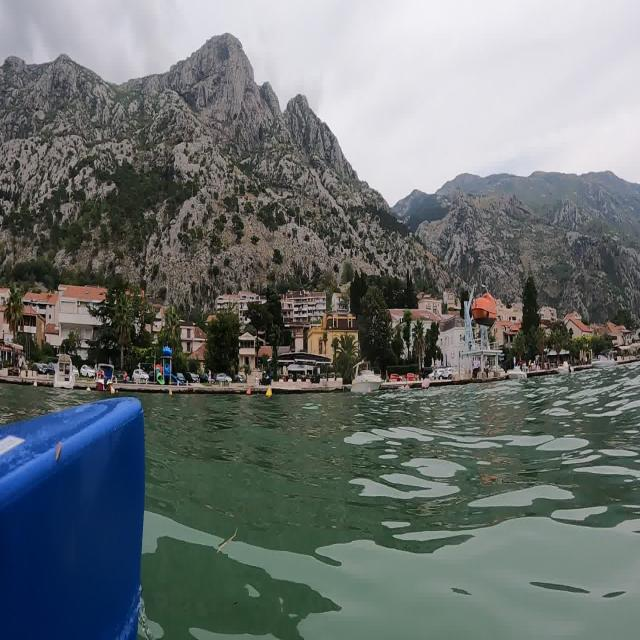boat: (349, 355, 387, 403)
buoy: (265, 382, 277, 401)
